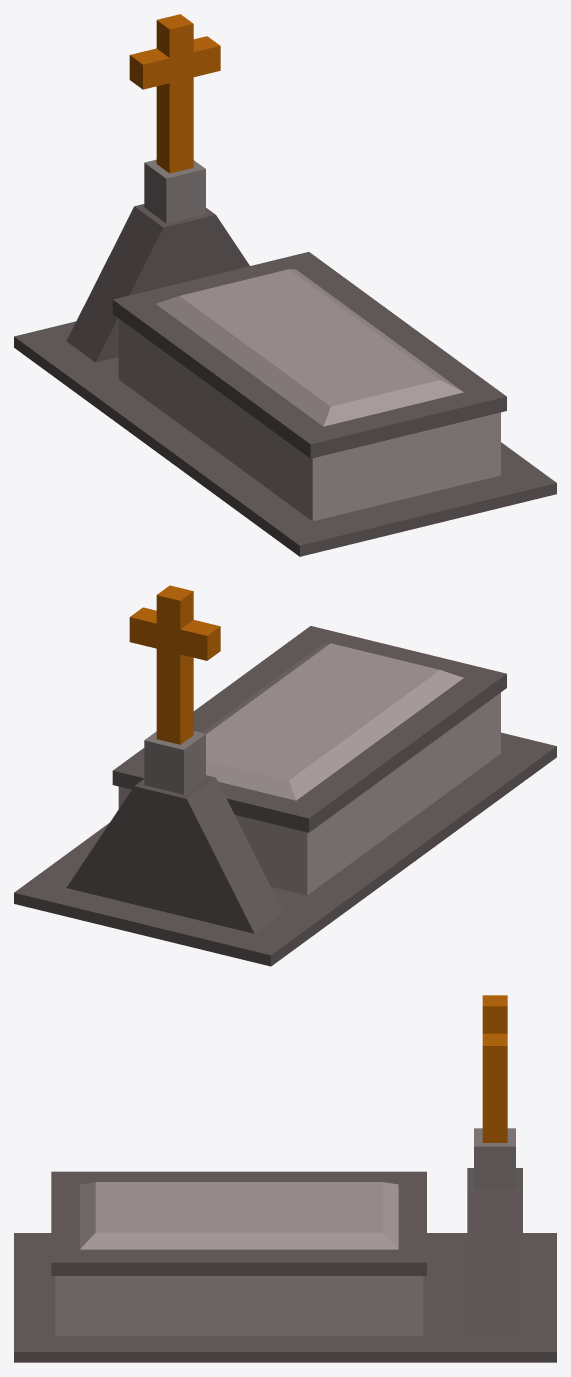
The model's file is HWN20_Grave_13.gltf.
3 renders of one model, top to bottom at view 1: azimuth 30°, elevation 25°; view 2: azimuth 150°, elevation 25°; view 3: azimuth 270°, elevation 25°, orthographic. The views are drawn at different scales.
Visible parts, largest first — view 1: HWN20_Grave_13_glb; view 2: HWN20_Grave_13_glb; view 3: HWN20_Grave_13_glb.
Part boxes in pixels (box(x1,y1,x2,y2)): HWN20_Grave_13_glb: box(14, 14, 556, 556); HWN20_Grave_13_glb: box(14, 585, 556, 966); HWN20_Grave_13_glb: box(14, 995, 556, 1362).
Size of what is drawn, in the model's own units: 1.2 by 1.42 by 2.31.
1 material, 1 textured.
